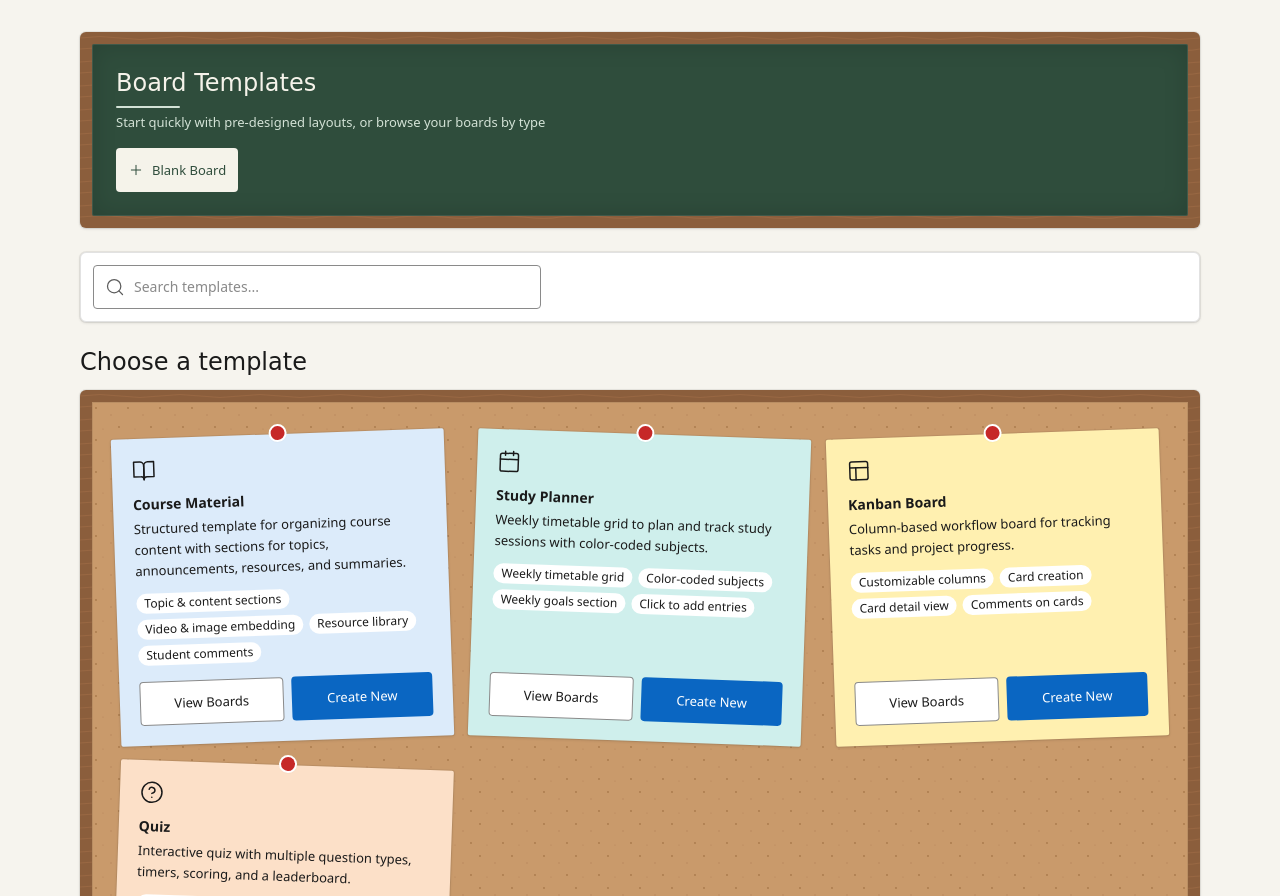
TemplatesPage › a search with no match shows the empty note and Show All Templates restores the gallery
This screenshot has width=1280, height=896.
Expected: the heading "Quiz" is shown, [138,816,171,836]
Type "nothing matches this" into the field labelled "Search templates" at (317, 287), box [93,265,541,309]
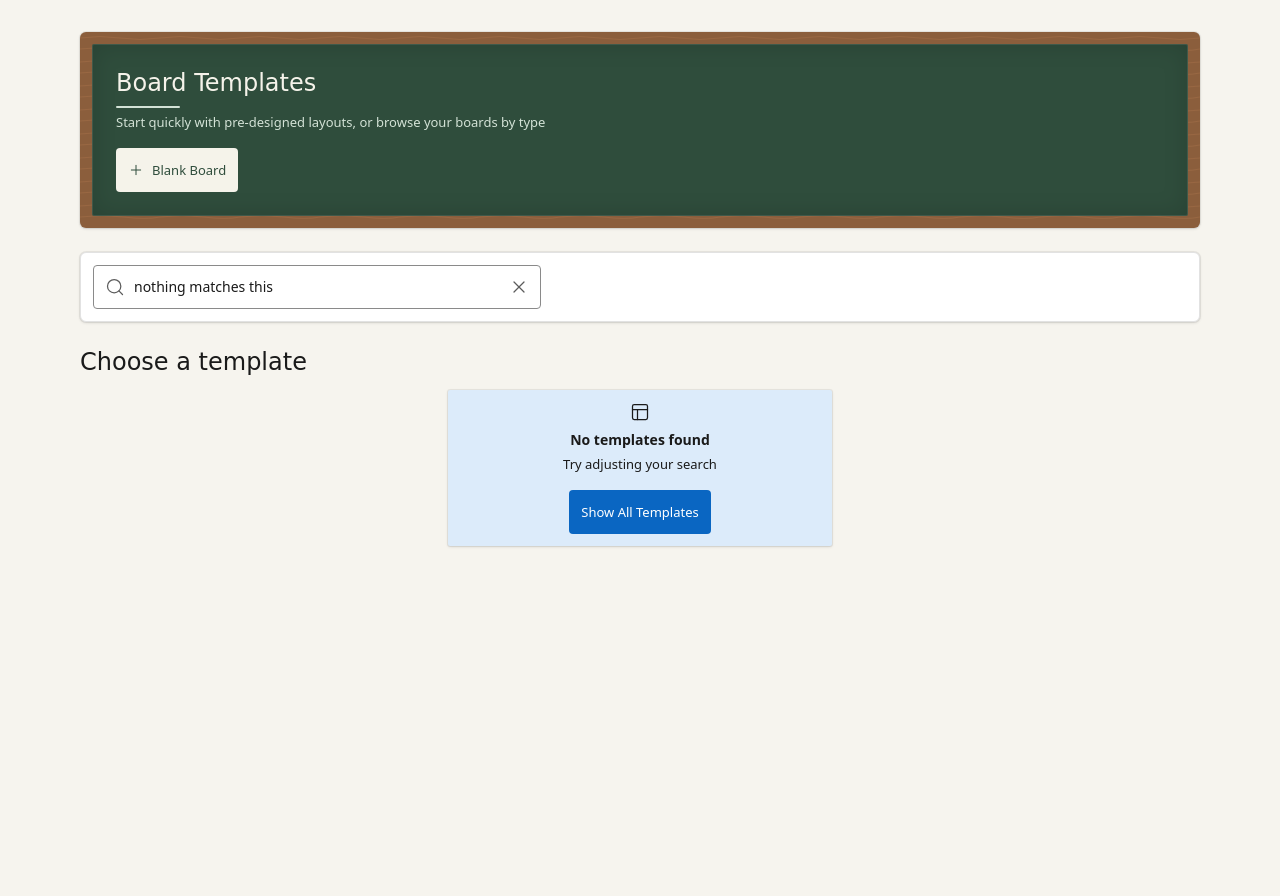
Now the heading "No templates found" is shown, box [570,430,710,450]
Click the button "Show All Templates" at (640, 512), box [569,490,711,534]
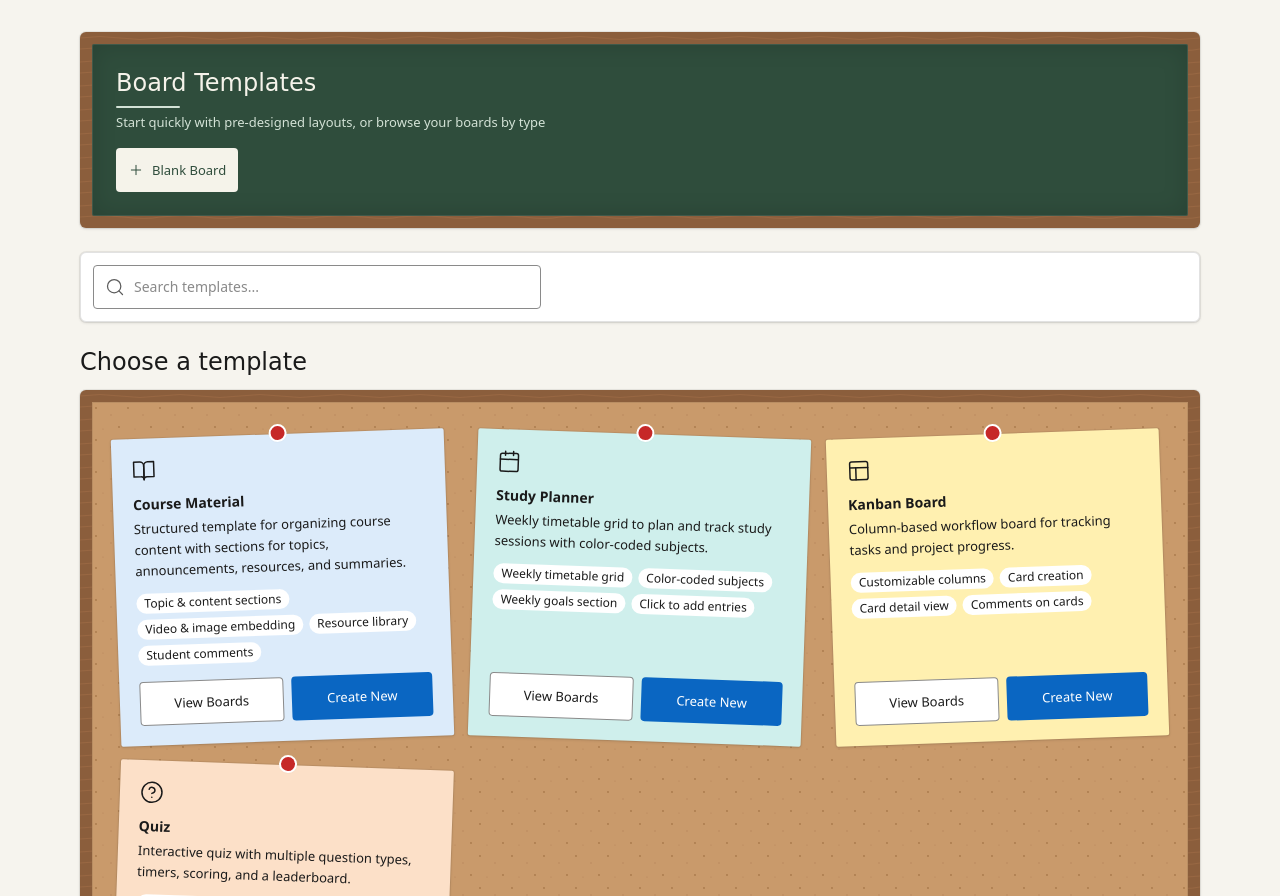
Now the heading "Quiz" is shown, box [138,816,171,836]
